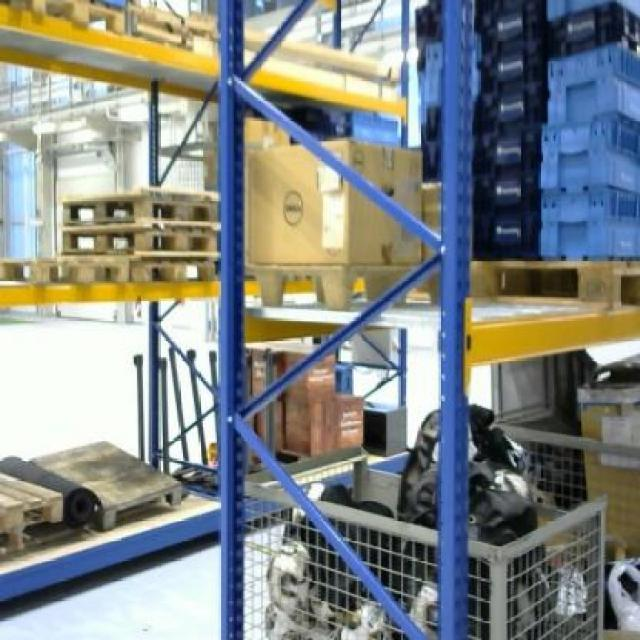box: (247, 138, 422, 262)
